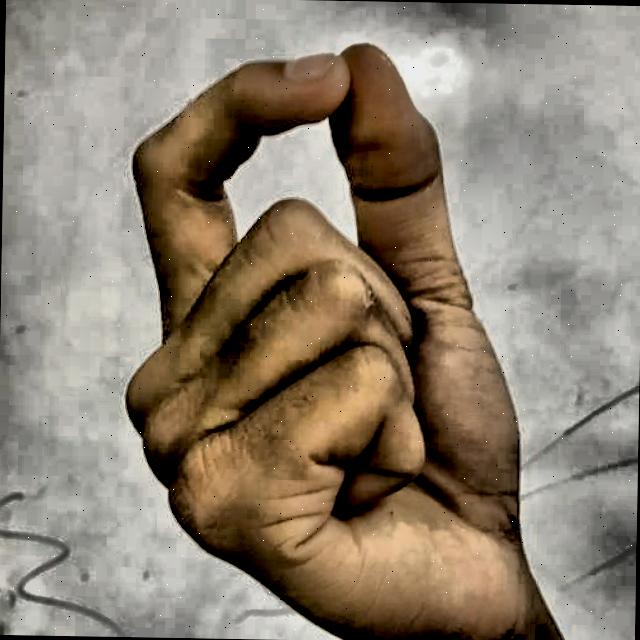Gha: (82, 22, 582, 640)
